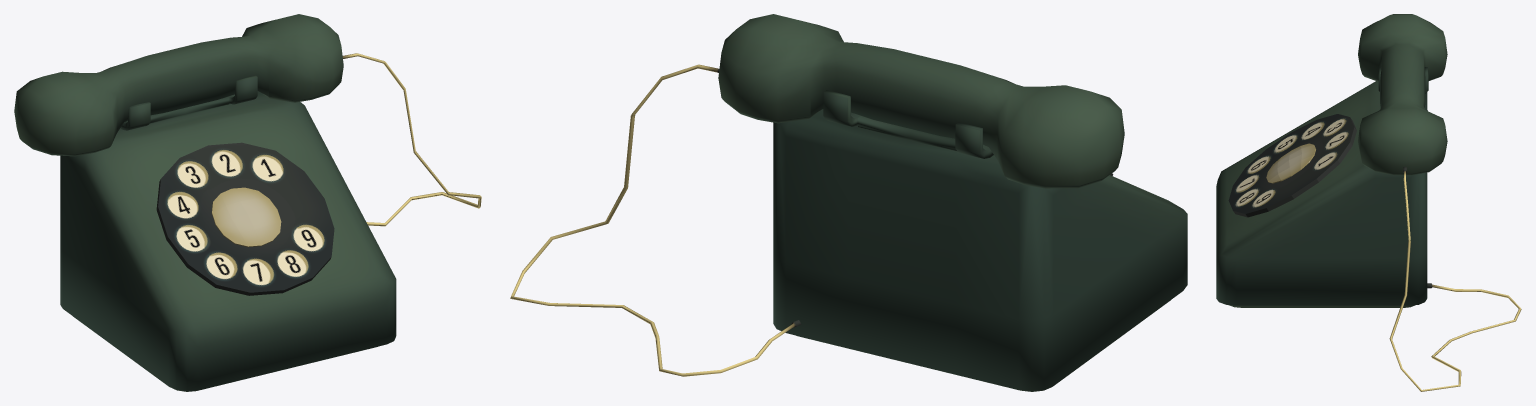
File: rotary.glb
3 views of the same model, side by side, from view 1: azimuth 30°, elevation 25°; view 2: azimuth 150°, elevation 25°; view 3: azimuth 270°, elevation 25° (orthographic). The views are drawn at different scales.
Visible parts, largest first — view 1: Body_0; view 2: Body_0; view 3: Body_0.
Part boxes in pixels (x1,y1,x2,y2): Body_0: (14, 14, 481, 391); Body_0: (510, 14, 1187, 391); Body_0: (1216, 14, 1521, 391).
Size of the model in its own units: 4.24 by 2.1 by 2.89.
1 material, 1 textured.
